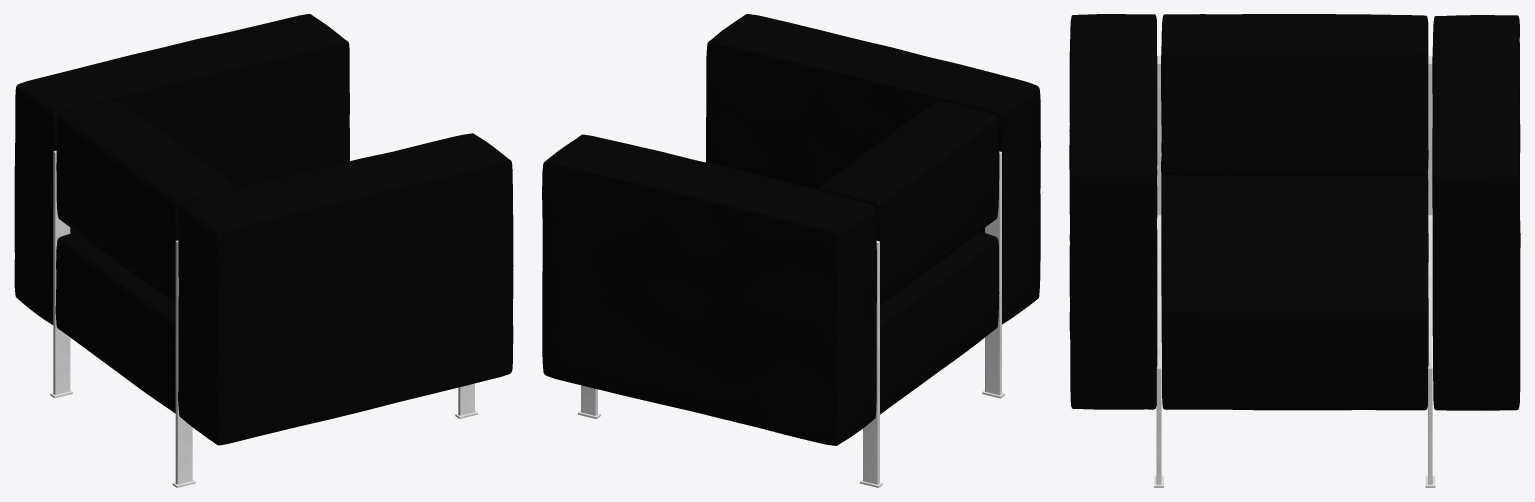
Rendered from LeatherArmchair.fbx.
3 renders of one model, left to right at view 1: azimuth 30°, elevation 25°; view 2: azimuth 150°, elevation 25°; view 3: azimuth 270°, elevation 25°, orthographic. The views are drawn at different scales.
Parts seen in each view (by area): view 1: LeatherArmchair; view 2: LeatherArmchair; view 3: LeatherArmchair.
Boxes of the visible parts, bbox=[...] form: LeatherArmchair: bbox=[14, 14, 513, 487]; LeatherArmchair: bbox=[542, 14, 1040, 487]; LeatherArmchair: bbox=[1069, 14, 1520, 487].
Size of what is drawn, in the model's own units: 80 by 93.63 by 72.39.
2 materials, 1 textured.
